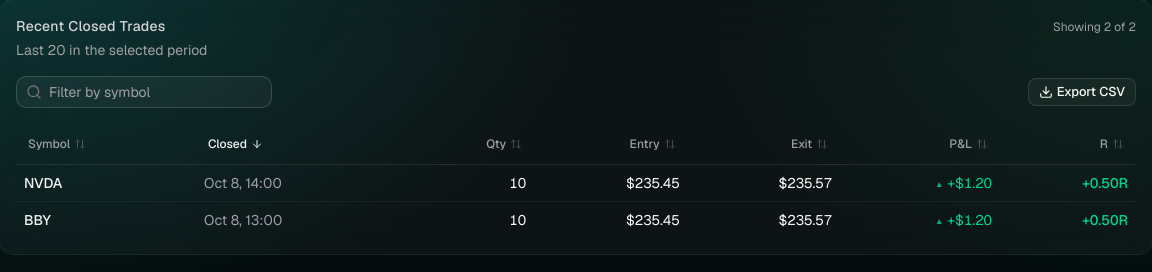
Test: filtering › narrows the list as the viewer types a symbol
Type "nv" into the search field labelled "Filter by symbol" at (144, 92), box [16,76,272,108]
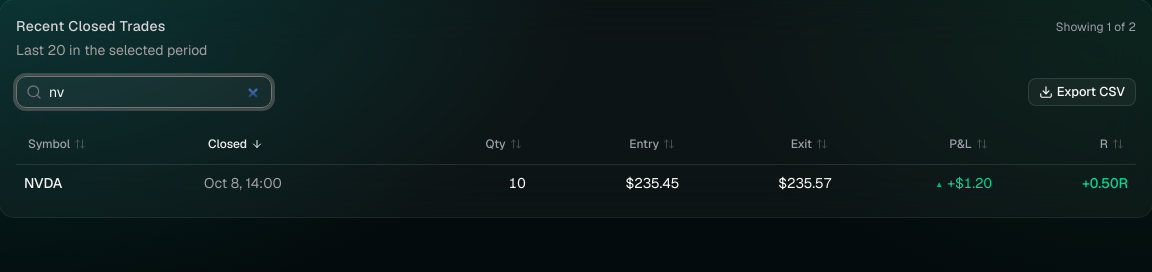
Check: the text with test id "trade-count" reads "Showing 1 of 2", box [1056,19,1136,35]
